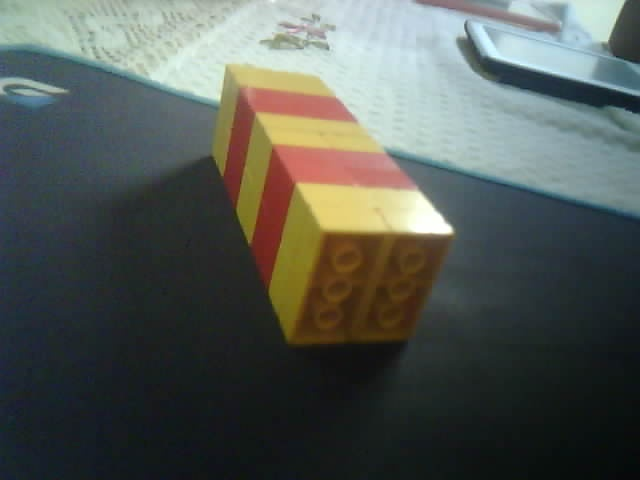lego: (209, 62, 457, 348)
